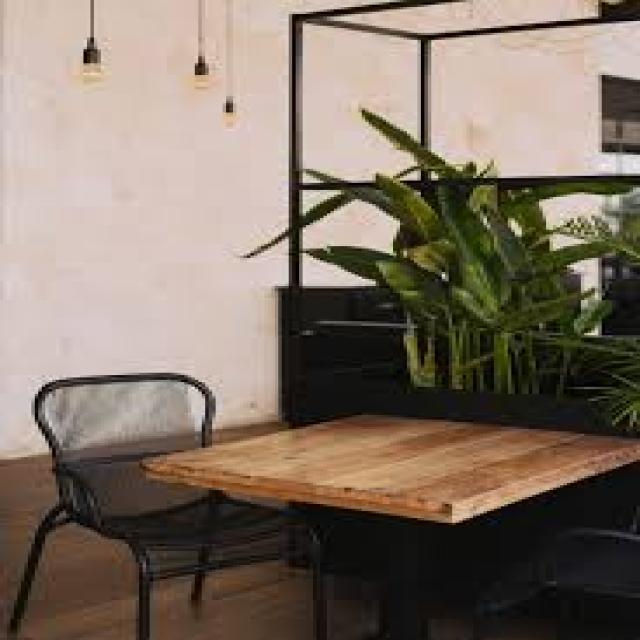obstacle: (24, 333, 334, 640)
